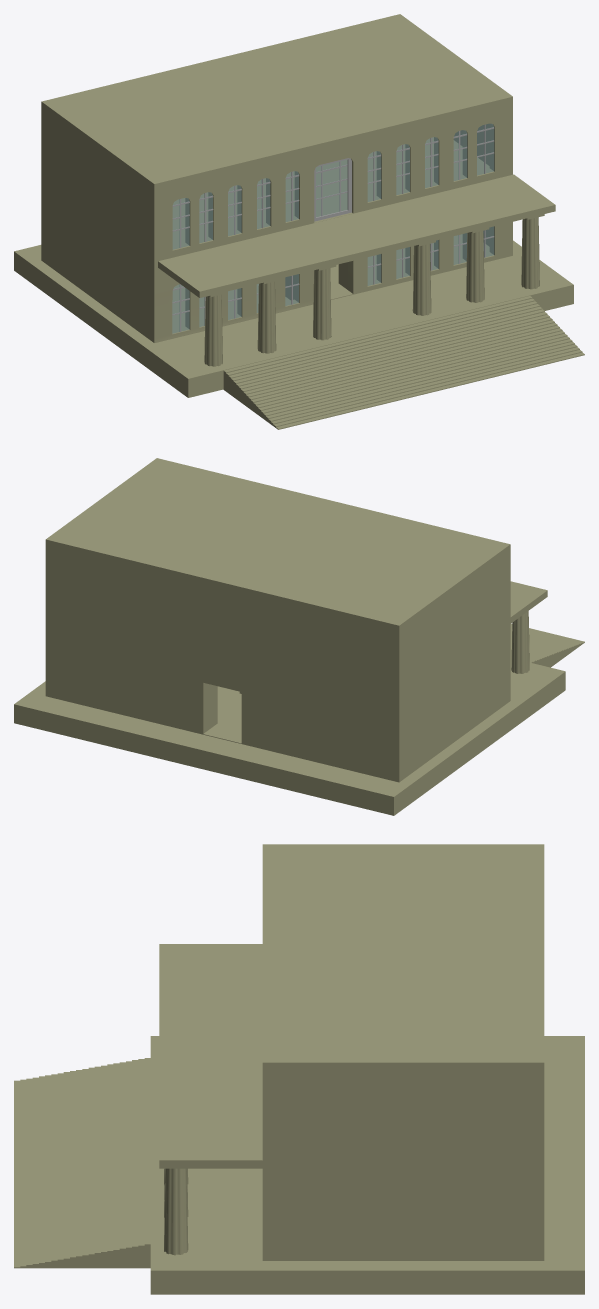
The model's file is Museum.fbx.
The picture shows the model from 3 angles, top to bottom: view 1: azimuth 30°, elevation 25°; view 2: azimuth 150°, elevation 25°; view 3: azimuth 270°, elevation 25°; orthographic projection. The views are drawn at different scales.
Visible parts, largest first — view 1: Museum1, Stairs, Fundation, Colon, Window3, Window19, Window21, Window8, Window20, Window16, Window18, Window4 (+6 smaller); view 2: Museum1, Fundation, Stairs, Colon; view 3: Museum1, Fundation, Stairs, Colon.
Boxes of the visible parts, x1,y1,x2,y2 form: Museum1: (41,14,555,342); Stairs: (223,296,584,429); Fundation: (14,240,573,397); Colon: (204,214,544,366); Window3: (172,198,189,249); Window19: (477,123,494,175); Window21: (331,160,347,213); Window8: (172,284,189,333); Window20: (316,163,331,217); Window16: (367,151,381,201); Window18: (453,130,467,180); Window4: (199,192,213,242); Museum1: (45,458,547,782); Fundation: (14,658,565,815); Stairs: (510,623,584,667); Colon: (511,611,529,673); Museum1: (159,844,544,1260); Fundation: (150,1036,584,1294); Stairs: (14,1058,150,1268); Colon: (164,1168,188,1255).
Size of the model in its own units: 0.2099 by 0.0929 by 0.216.
